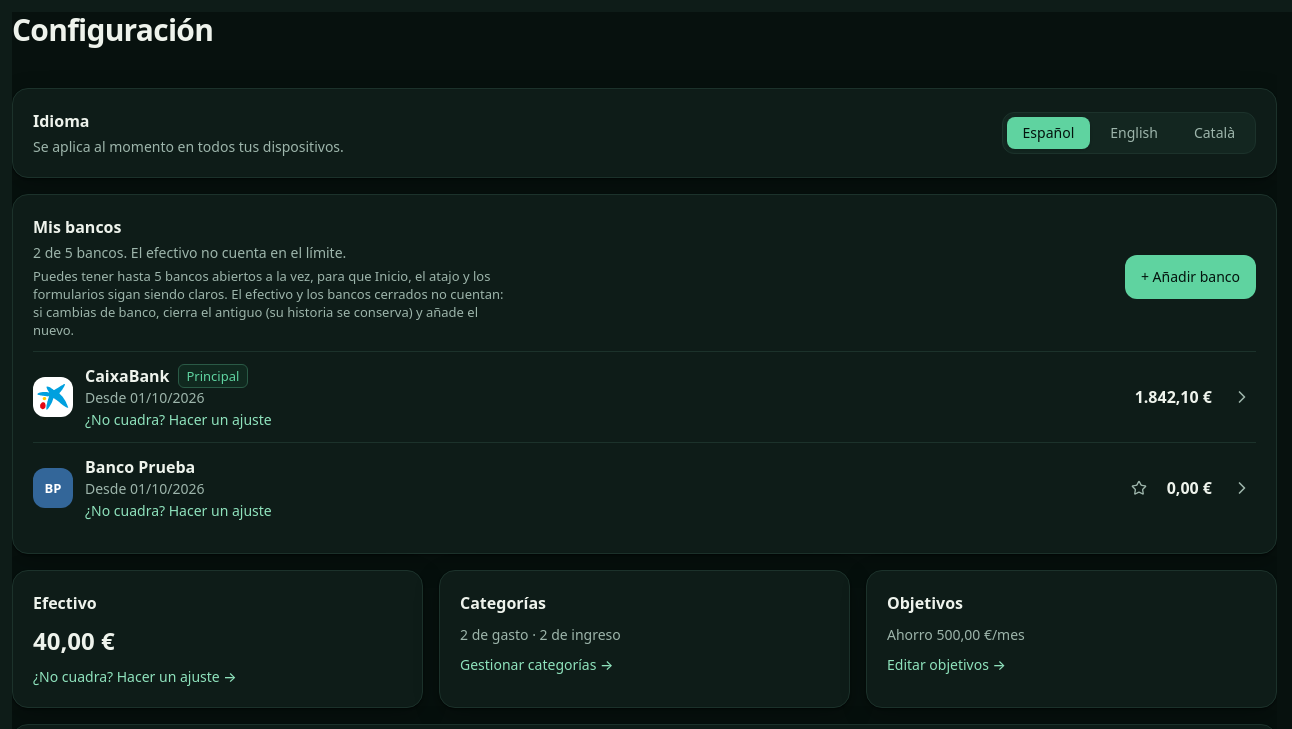
Test case: Idioma › cambia la interfaz al momento y guarda perfiles.idioma
What coordinates should you click on to do the following:
click the radio button labelled "English"
I would click on:
 (1134, 133)
Its box is [1094,117,1174,149].
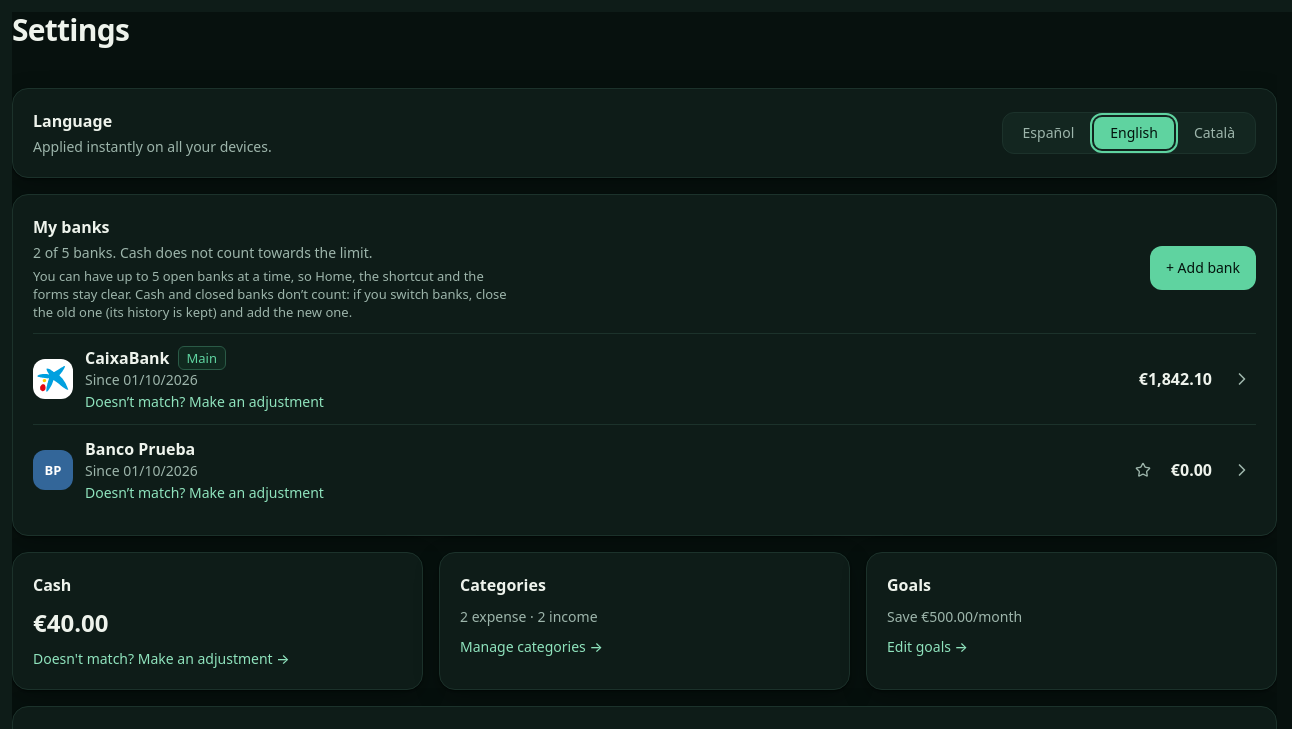
Check: the heading "Settings" is shown, box [12,12,129,48]
